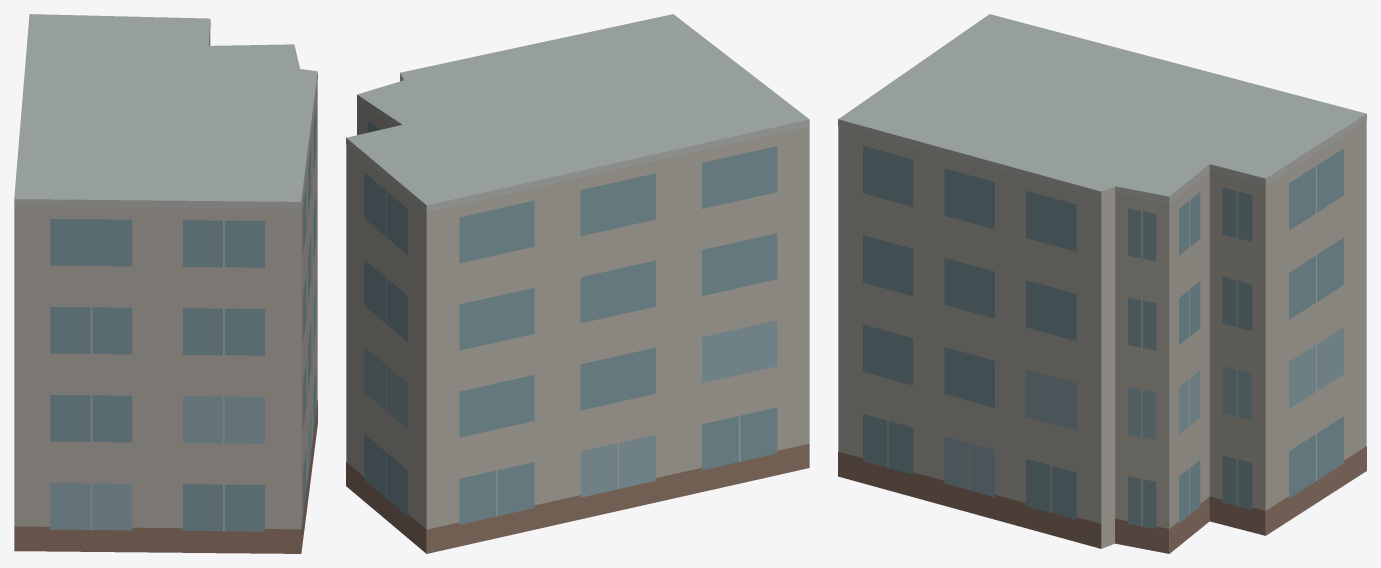
The model's file is survey-upis-32640647.glb.
The picture shows the model from 3 angles, left to right: view 1: azimuth 30°, elevation 25°; view 2: azimuth 150°, elevation 25°; view 3: azimuth 270°, elevation 25°; orthographic projection. The views are drawn at different scales.
Visible parts, largest first — view 1: survey-upis-32640647.tmp; view 2: survey-upis-32640647.tmp; view 3: survey-upis-32640647.tmp.
Part boxes in pixels (x1,y1,x2,y2): survey-upis-32640647.tmp: (14, 14, 317, 553); survey-upis-32640647.tmp: (346, 14, 809, 553); survey-upis-32640647.tmp: (838, 14, 1366, 553).
Size of the model in its own units: 13.6 by 12.4 by 16.64.
